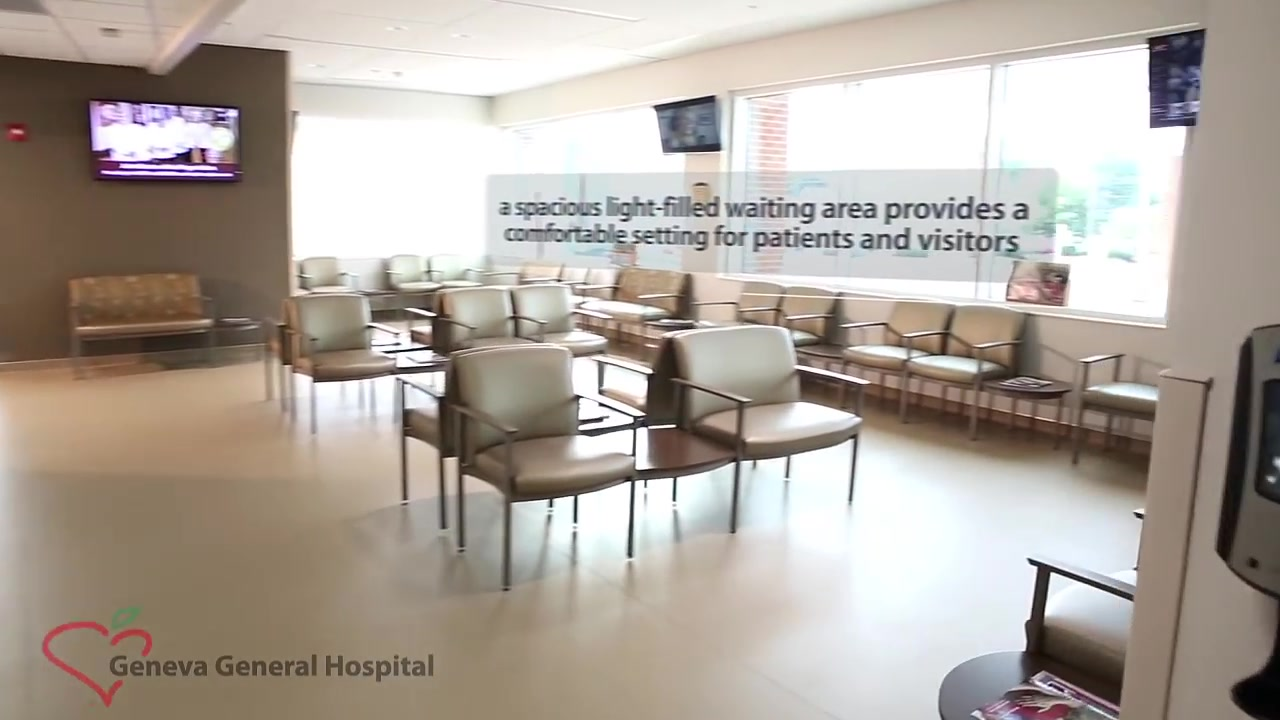TV: (87, 98, 241, 182), (652, 94, 724, 157)
chair: (454, 347, 647, 591), (671, 324, 863, 536), (1017, 553, 1135, 694), (67, 271, 215, 381), (289, 293, 401, 436), (911, 301, 1027, 438), (848, 296, 950, 427), (1071, 353, 1158, 465), (585, 266, 688, 333), (520, 286, 613, 349), (748, 287, 841, 346), (441, 291, 522, 353), (694, 282, 785, 333), (387, 250, 439, 295), (295, 255, 352, 294), (430, 253, 483, 290)
dispenser: (1213, 321, 1280, 720)
table: (606, 426, 737, 534), (937, 649, 1100, 720), (980, 372, 1073, 467)
